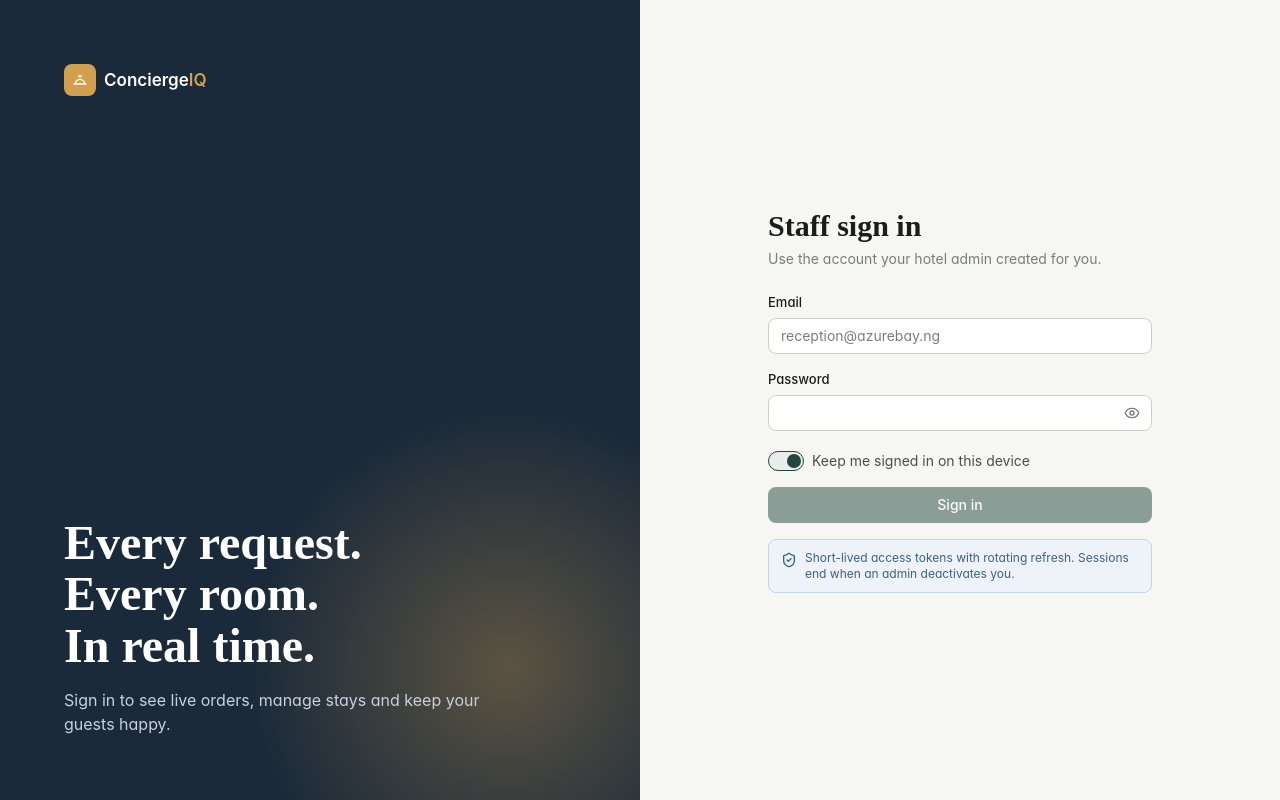
Test: client-side validation › shows an email error when the email is missing the @ sign
Expected: the heading "Staff sign in" is shown, top-left (768, 209), bottom-right (921, 242)
Type "notanemail" into the field labelled "Email". click: (960, 336)
box: top-left (768, 318), bottom-right (1152, 354)
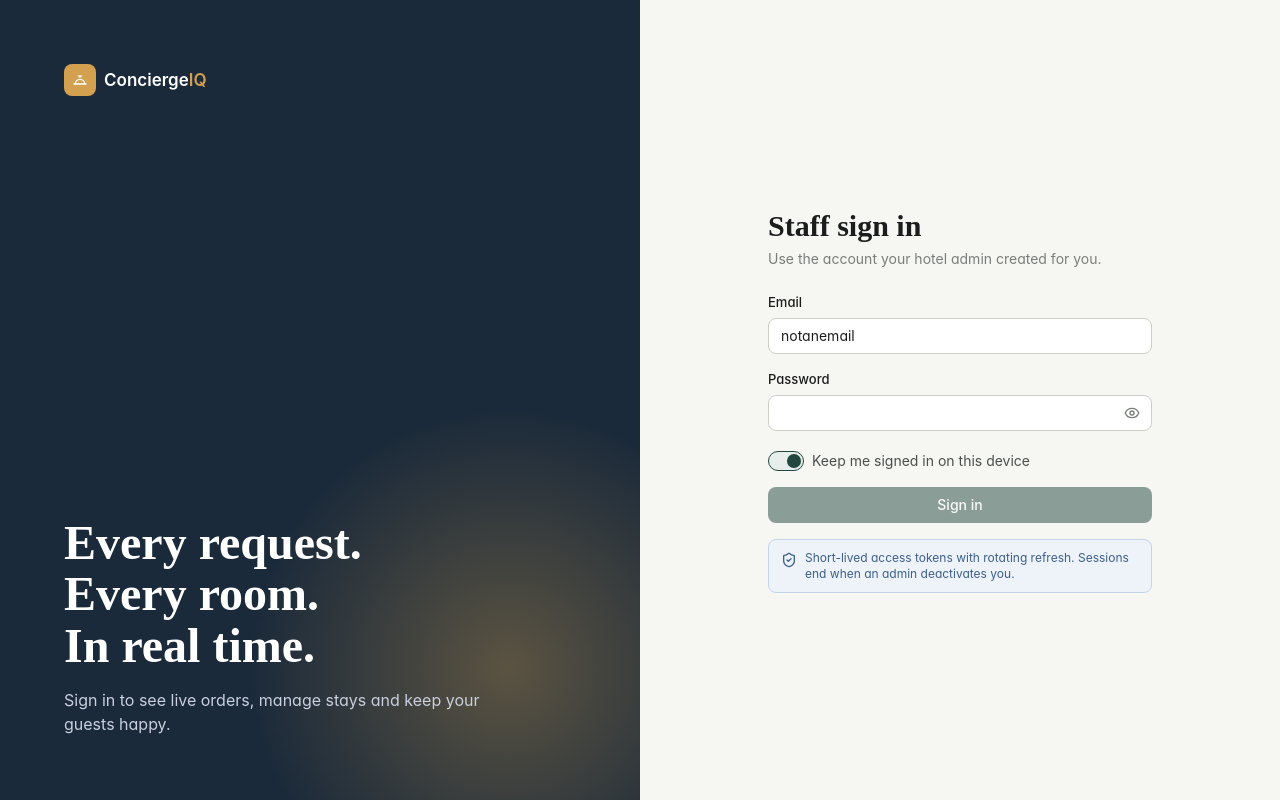
Type "ChangeMe123!" into the password field labelled "Password". click: (960, 413)
box: top-left (768, 395), bottom-right (1152, 431)
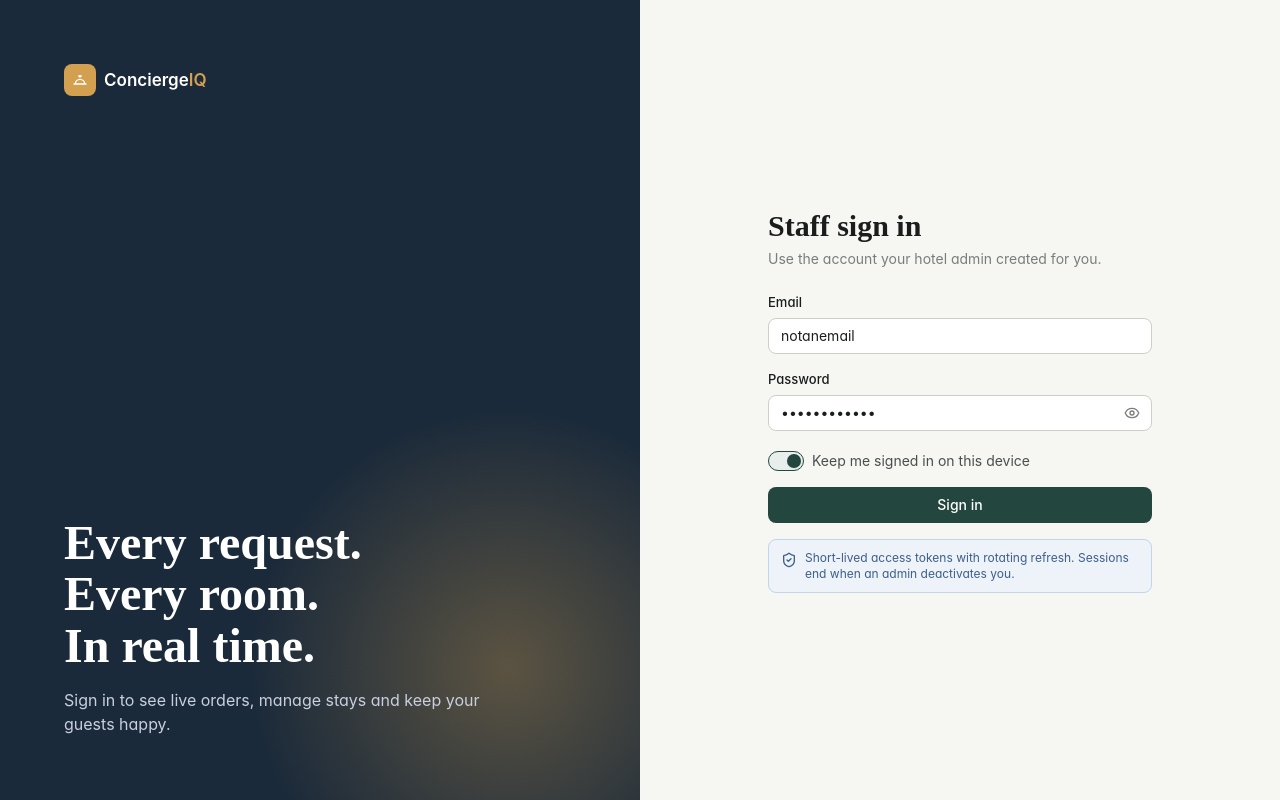
Click the button "Sign in". click: (960, 505)
box: top-left (768, 487), bottom-right (1152, 523)
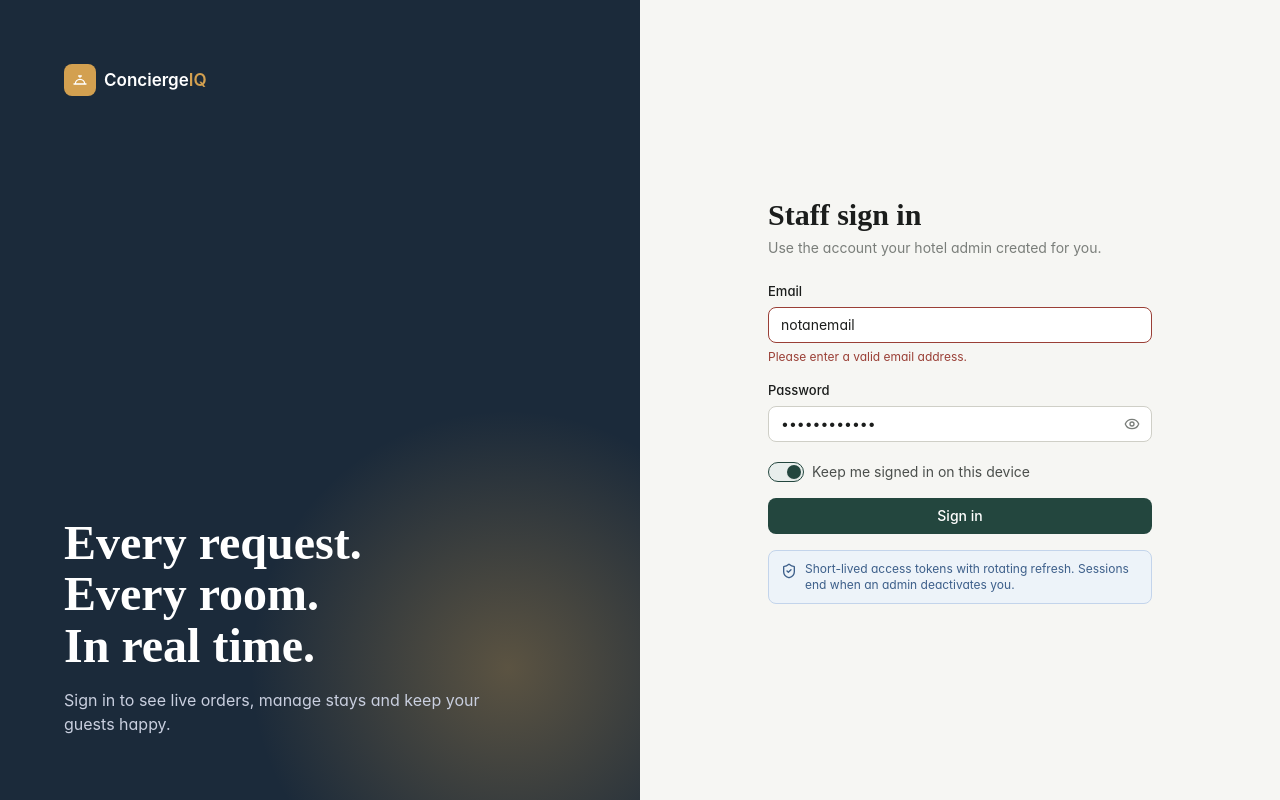
Now the text "Please enter a valid email address." is shown, box top-left (768, 349), bottom-right (967, 364)
